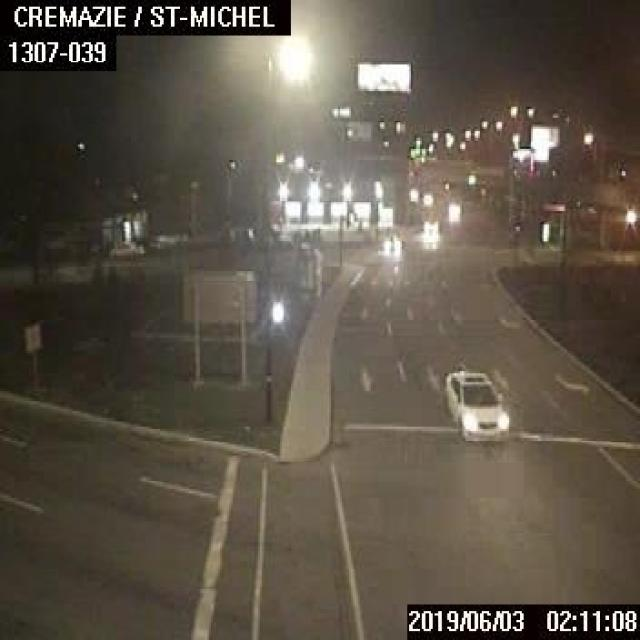vehicle: (440, 367, 507, 440), (107, 240, 144, 258), (380, 228, 404, 250), (420, 212, 439, 232)
